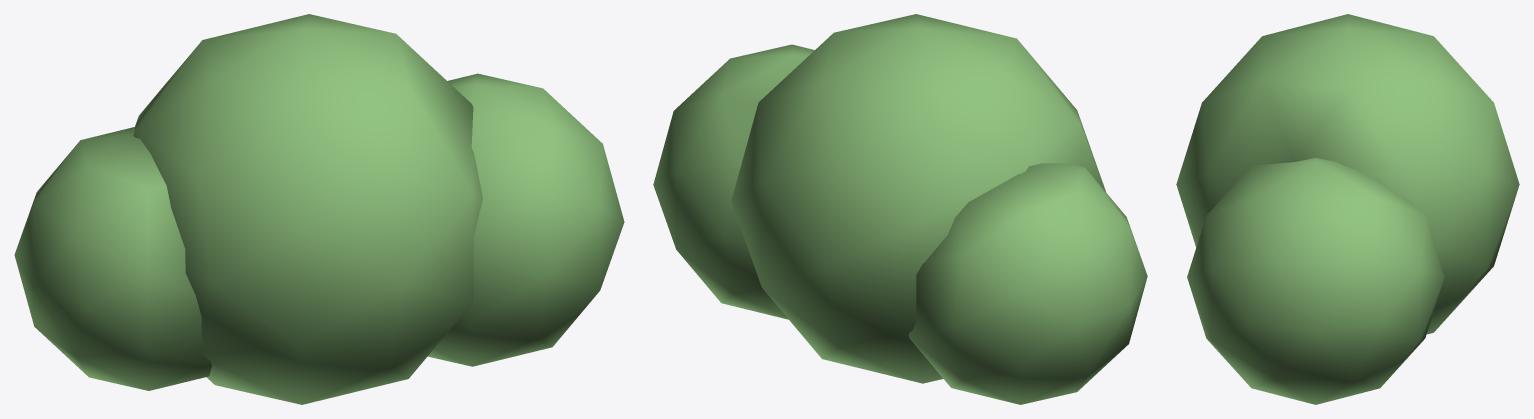
File: bush.glb
The picture shows the model from 3 angles, left to right: view 1: azimuth 30°, elevation 25°; view 2: azimuth 150°, elevation 25°; view 3: azimuth 270°, elevation 25°; orthographic projection. The views are drawn at different scales.
Parts seen in each view (by area): view 1: bush_leafRound; view 2: bush_leafRound; view 3: bush_leafRound.
Boxes of the visible parts, x1,y1,x2,y2 form: bush_leafRound: (14, 14, 624, 404); bush_leafRound: (653, 14, 1147, 404); bush_leafRound: (1176, 14, 1519, 404).
Bounding box in the file's own units: 0.49 × 0.32 × 0.32.
